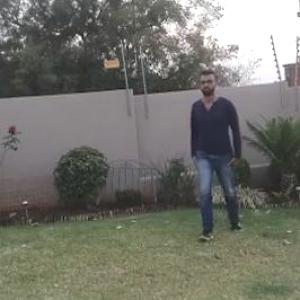follow: (187, 73, 239, 229)
